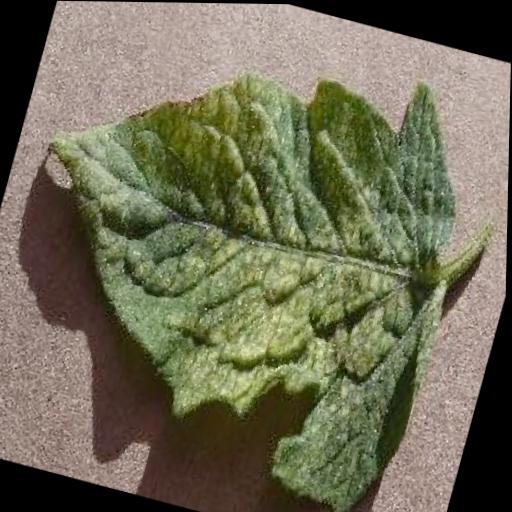Spider Mites: (0, 0, 501, 512)
